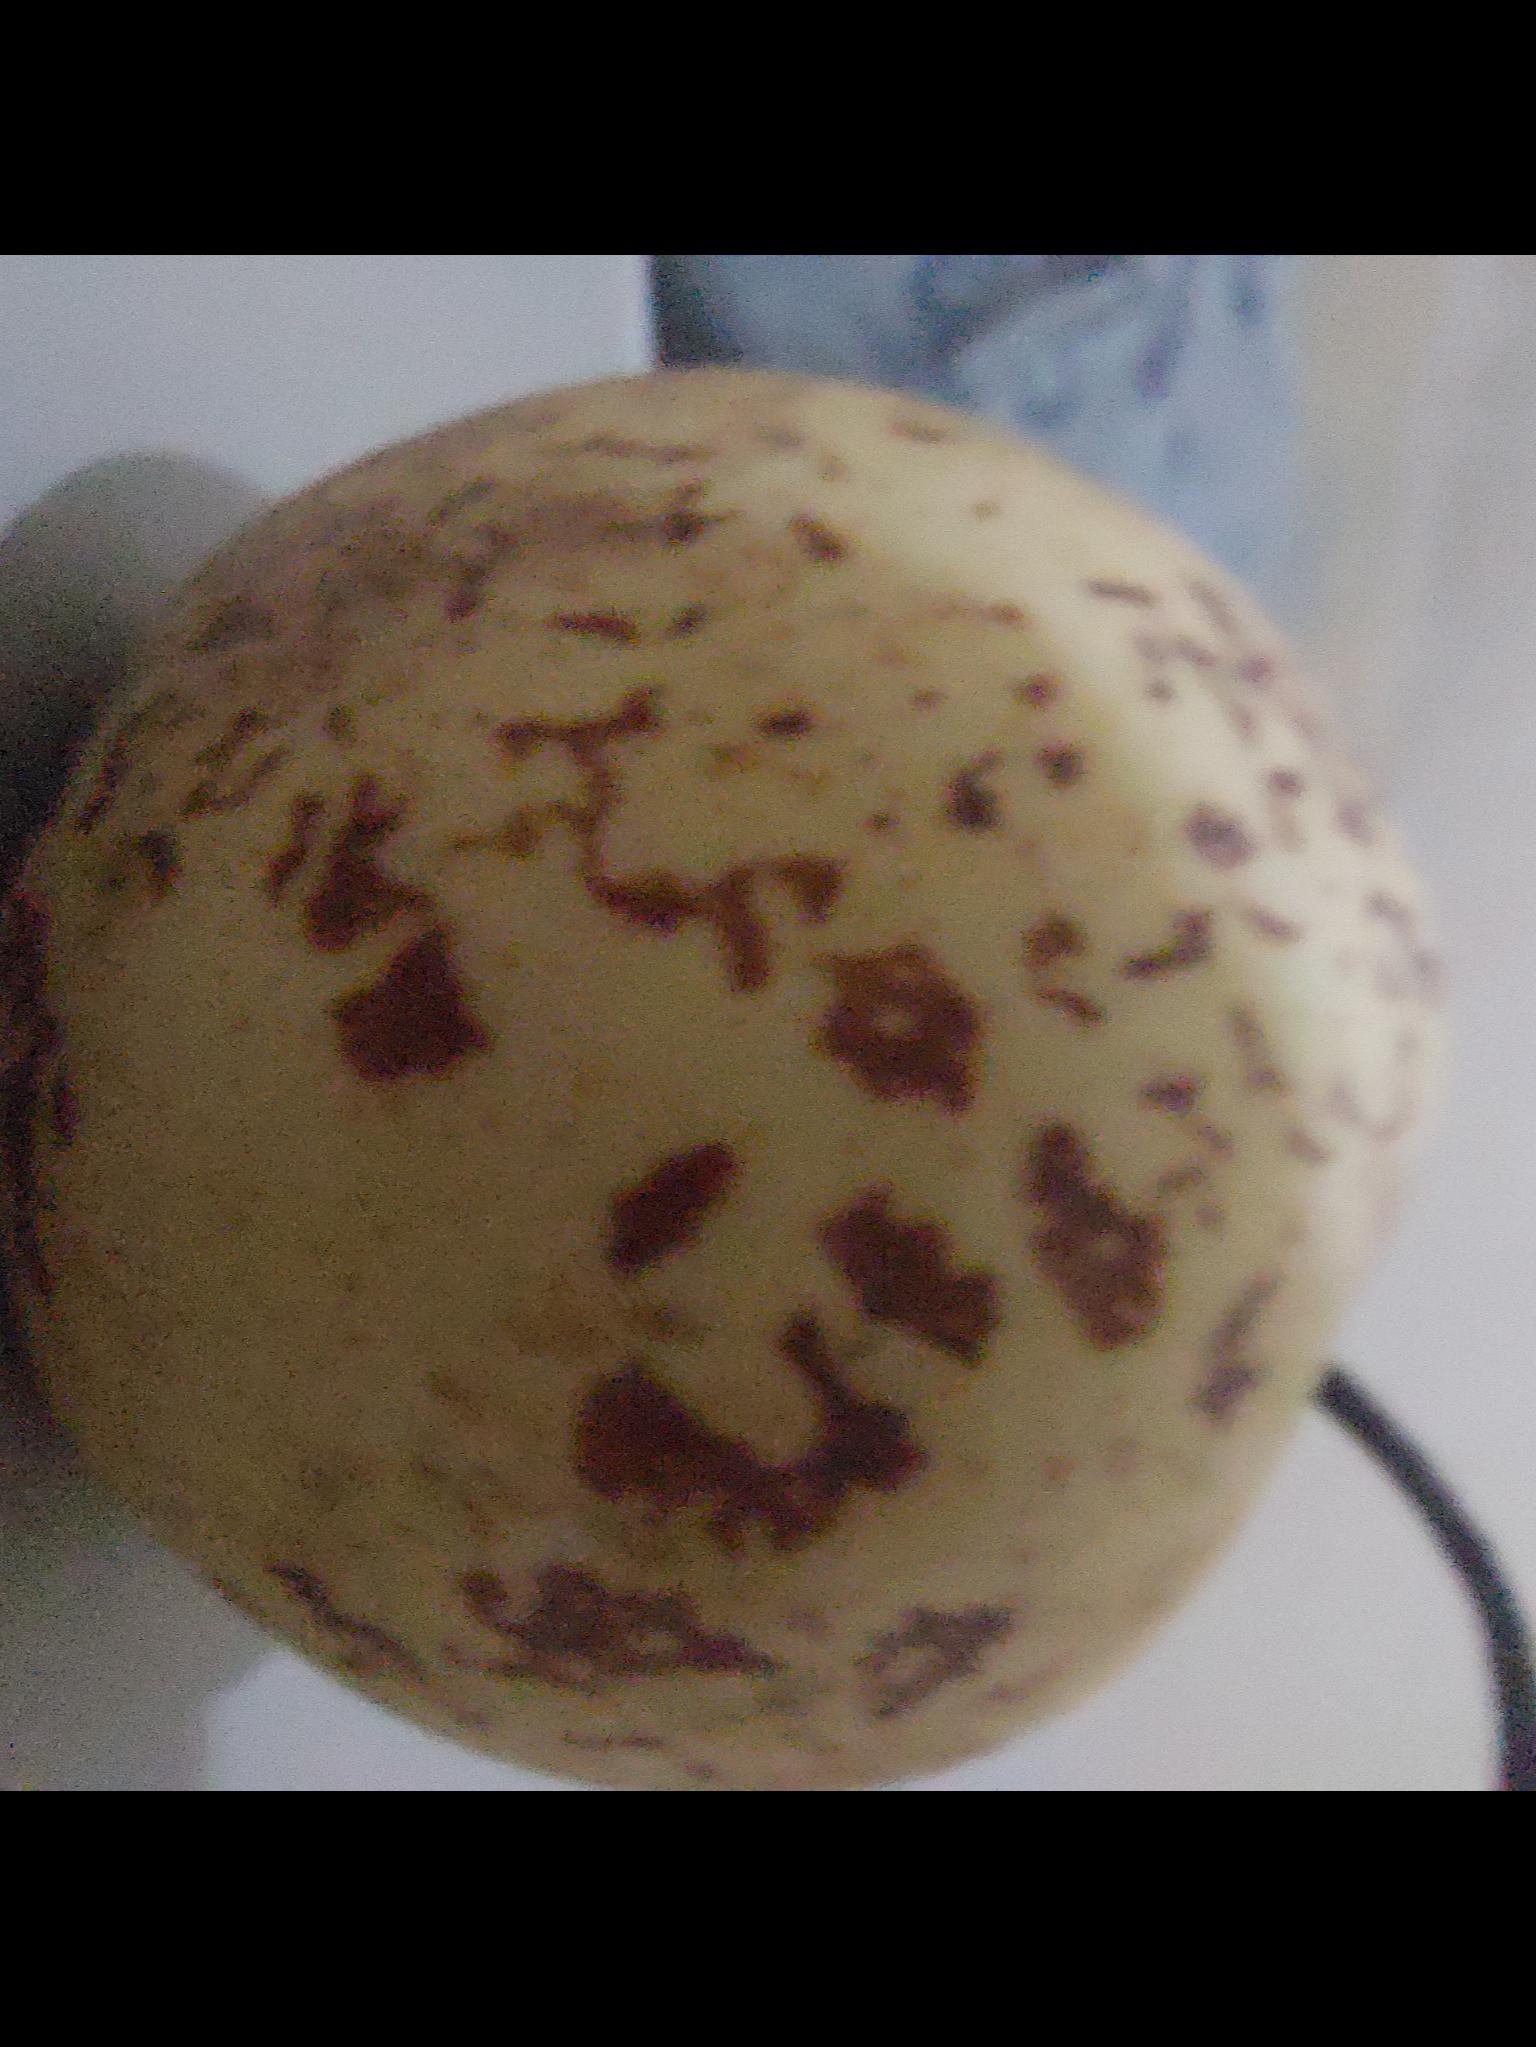Bad Pear: (3, 363, 1433, 1792)
